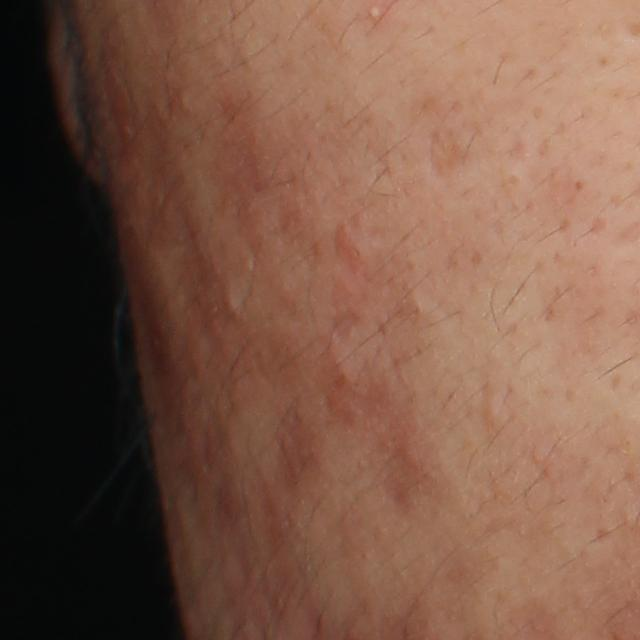atrophic_scar: (318, 359, 434, 515), (325, 274, 365, 343), (463, 375, 498, 445), (430, 129, 469, 176)
papule: (333, 223, 367, 273)
